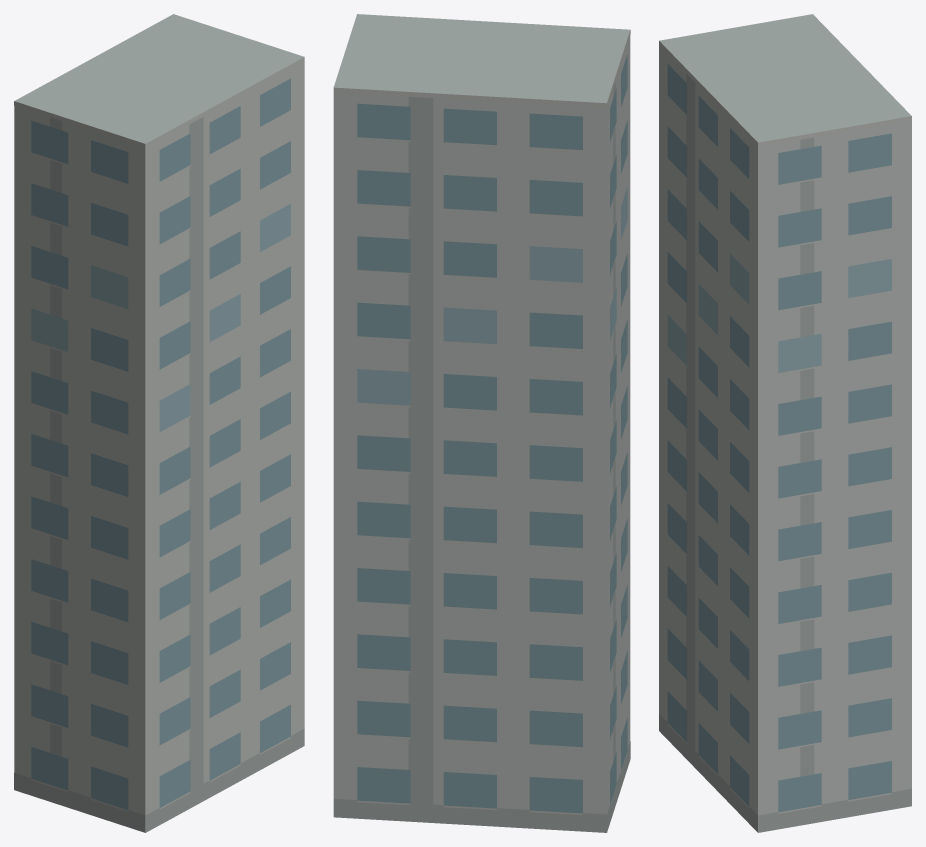
File: residential-f21e2ef6-eb97-4fbd-880b-b0cbfd4b46e6.glb
The picture shows the model from 3 angles, left to right: view 1: azimuth 30°, elevation 25°; view 2: azimuth 150°, elevation 25°; view 3: azimuth 270°, elevation 25°; orthographic projection. The views are drawn at different scales.
Visible parts, largest first — view 1: residential-f21e2ef6-eb97-4fbd-880b-b0cbfd4b46e6.tmp; view 2: residential-f21e2ef6-eb97-4fbd-880b-b0cbfd4b46e6.tmp; view 3: residential-f21e2ef6-eb97-4fbd-880b-b0cbfd4b46e6.tmp.
Boxes of the visible parts, x1,y1,x2,y2 form: residential-f21e2ef6-eb97-4fbd-880b-b0cbfd4b46e6.tmp: [14, 14, 304, 832]; residential-f21e2ef6-eb97-4fbd-880b-b0cbfd4b46e6.tmp: [333, 14, 630, 832]; residential-f21e2ef6-eb97-4fbd-880b-b0cbfd4b46e6.tmp: [659, 14, 911, 832].
Size of the model in its own units: 14.8 by 37 by 12.29.
